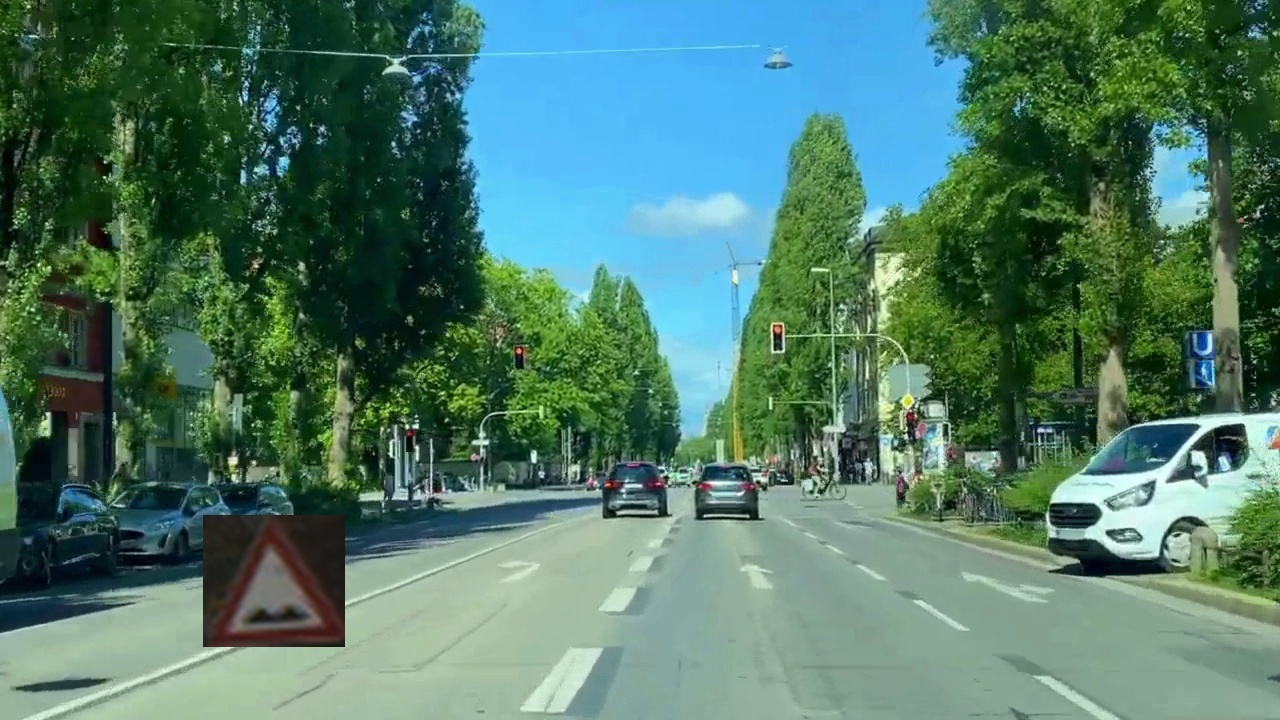Bumpy road: (203, 515, 345, 647)
